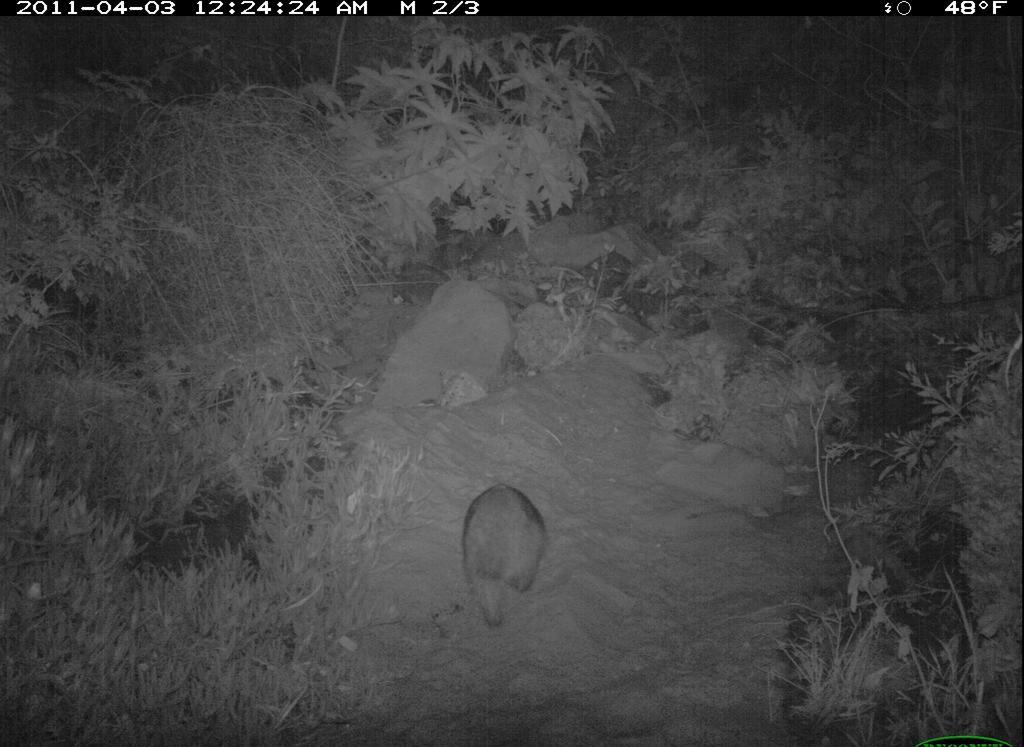raccoon: (451, 478, 562, 651)
